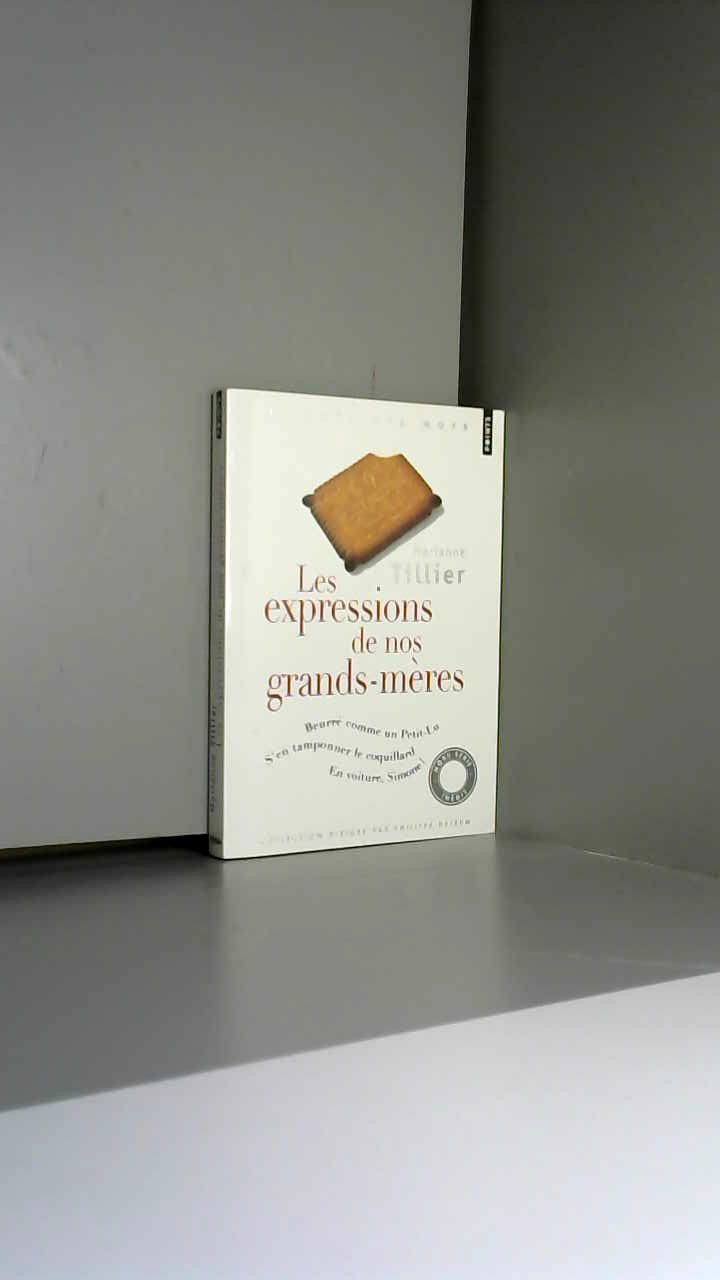book: (193, 368, 518, 883)
